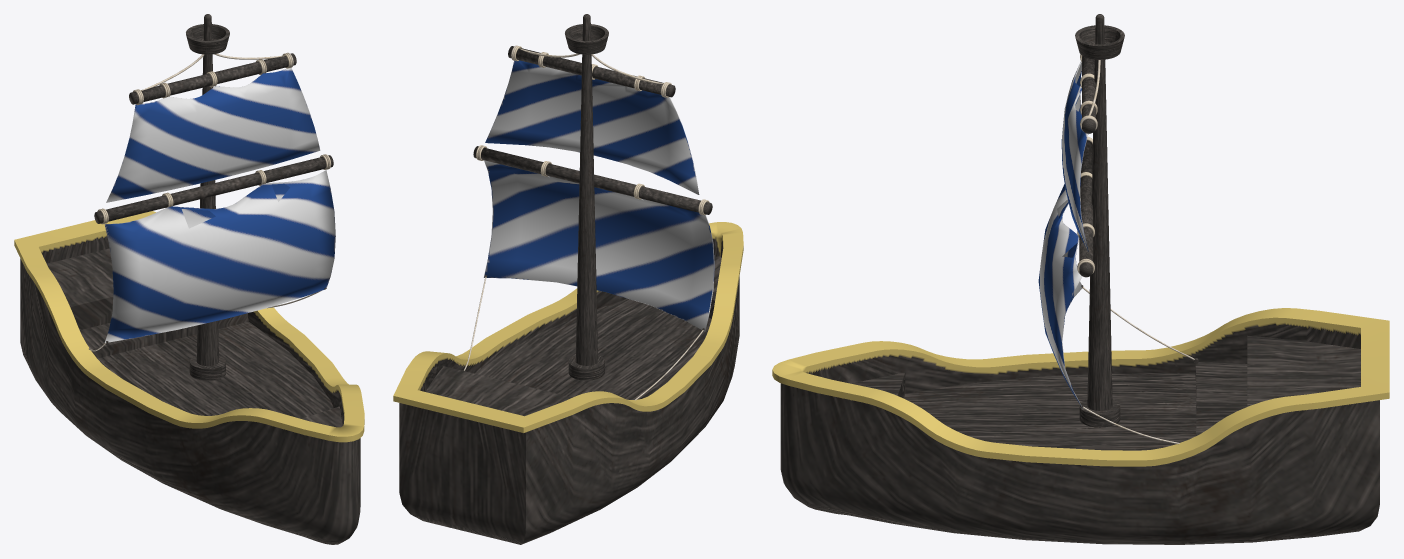
File: Ship_DefaultMedium_01.fbx
The picture shows the model from 3 angles, left to right: view 1: azimuth 30°, elevation 25°; view 2: azimuth 150°, elevation 25°; view 3: azimuth 270°, elevation 25°; orthographic projection. The views are drawn at different scales.
Visible parts, largest first — view 1: Ship_DefaultMedium_01; view 2: Ship_DefaultMedium_01; view 3: Ship_DefaultMedium_01.
Part boxes in pixels (x1,y1,x2,y2): Ship_DefaultMedium_01: [14, 14, 364, 544]; Ship_DefaultMedium_01: [393, 14, 743, 544]; Ship_DefaultMedium_01: [772, 14, 1389, 544].
Size of the model in its own units: 748 by 1355 by 1521.
